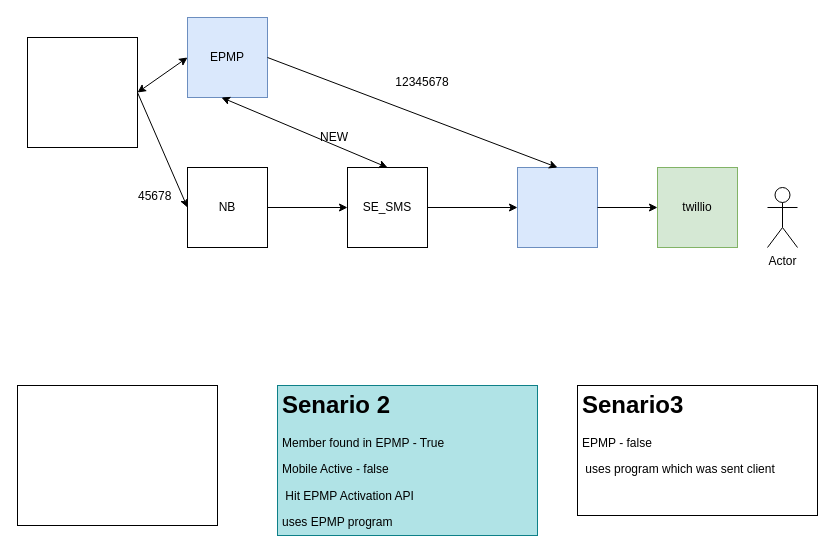
Image size: 835x553. Some labels were removed from this diagram. Here are the shapes that lost their labels. From the top down, the centre of each, then its label:
At point 82,92: "Ezcomm".
At point 557,207: "SMS manager".
At point 117,455: "Senario1 Member found in EPMP - True Mobile Active - true uses EPMP program".
